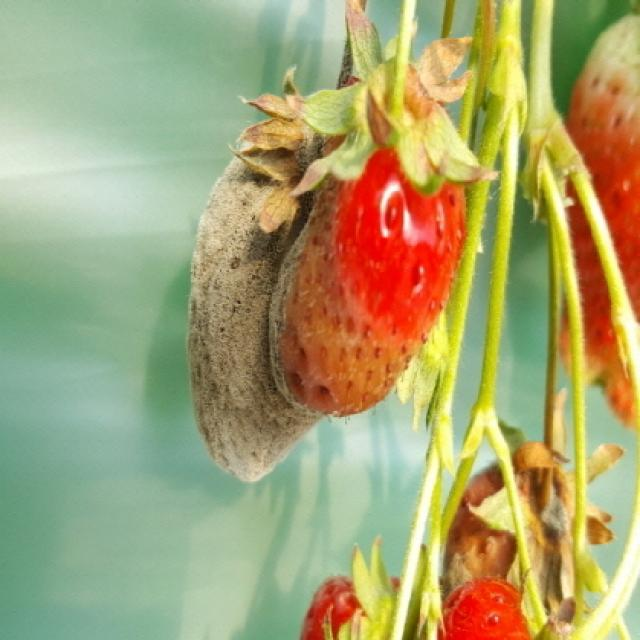Gray Mold: (184, 107, 342, 481), (268, 132, 468, 419)
